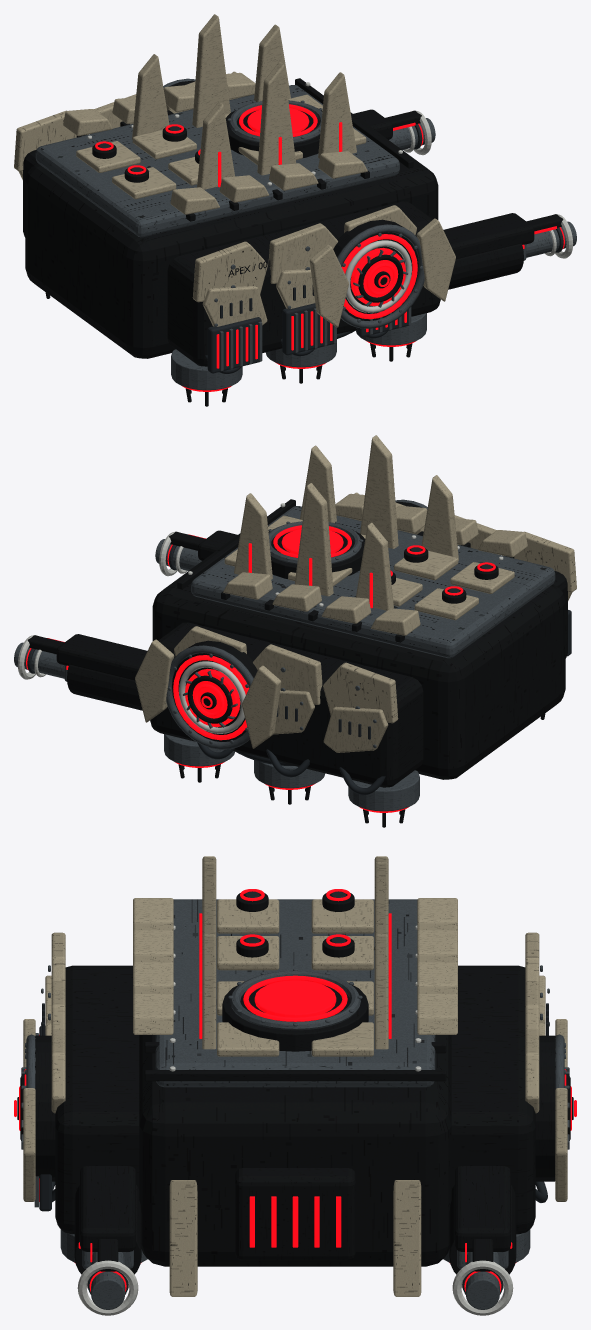
File: boss.glb
3 renders of one model, top to bottom at view 1: azimuth 30°, elevation 25°; view 2: azimuth 150°, elevation 25°; view 3: azimuth 270°, elevation 25°, orthographic. The views are drawn at different scales.
Visible parts, largest first — view 1: APEX_Dreadnought_REF_dark, APEX_Dreadnought_REF_ceramic, APEX_Dreadnought_REF_steel, APEX_Dreadnought_REF_red, APEX_Dreadnought_REF_rubber, APEX_Dreadnought_REF_edge; view 2: APEX_Dreadnought_REF_dark, APEX_Dreadnought_REF_ceramic, APEX_Dreadnought_REF_steel, APEX_Dreadnought_REF_red, APEX_Dreadnought_REF_edge, APEX_Dreadnought_REF_rubber; view 3: APEX_Dreadnought_REF_dark, APEX_Dreadnought_REF_ceramic, APEX_Dreadnought_REF_steel, APEX_Dreadnought_REF_red, APEX_Dreadnought_REF_edge, APEX_Dreadnought_REF_rubber.
Boxes of the visible parts, bbox=[...] form: APEX_Dreadnought_REF_dark: bbox=[23, 78, 563, 406]; APEX_Dreadnought_REF_ceramic: bbox=[14, 14, 455, 327]; APEX_Dreadnought_REF_steel: bbox=[35, 78, 576, 390]; APEX_Dreadnought_REF_red: bbox=[95, 104, 564, 391]; APEX_Dreadnought_REF_rubber: bbox=[98, 124, 563, 373]; APEX_Dreadnought_REF_edge: bbox=[87, 82, 573, 312]; APEX_Dreadnought_REF_dark: bbox=[27, 499, 567, 827]; APEX_Dreadnought_REF_ceramic: bbox=[135, 435, 576, 752]; APEX_Dreadnought_REF_steel: bbox=[14, 499, 555, 811]; APEX_Dreadnought_REF_red: bbox=[26, 525, 495, 812]; APEX_Dreadnought_REF_edge: bbox=[17, 503, 503, 733]; APEX_Dreadnought_REF_rubber: bbox=[27, 545, 571, 794]; APEX_Dreadnought_REF_dark: bbox=[17, 893, 573, 1274]; APEX_Dreadnought_REF_ceramic: bbox=[23, 856, 567, 1296]; APEX_Dreadnought_REF_steel: bbox=[21, 899, 569, 1309]; APEX_Dreadnought_REF_red: bbox=[14, 889, 576, 1291]; APEX_Dreadnought_REF_edge: bbox=[77, 925, 513, 1315]; APEX_Dreadnought_REF_rubber: bbox=[39, 891, 548, 1294].
Size of the model in its own units: 3.01 by 1.9 by 2.61.
Materials: 6 (3 with a texture image).
